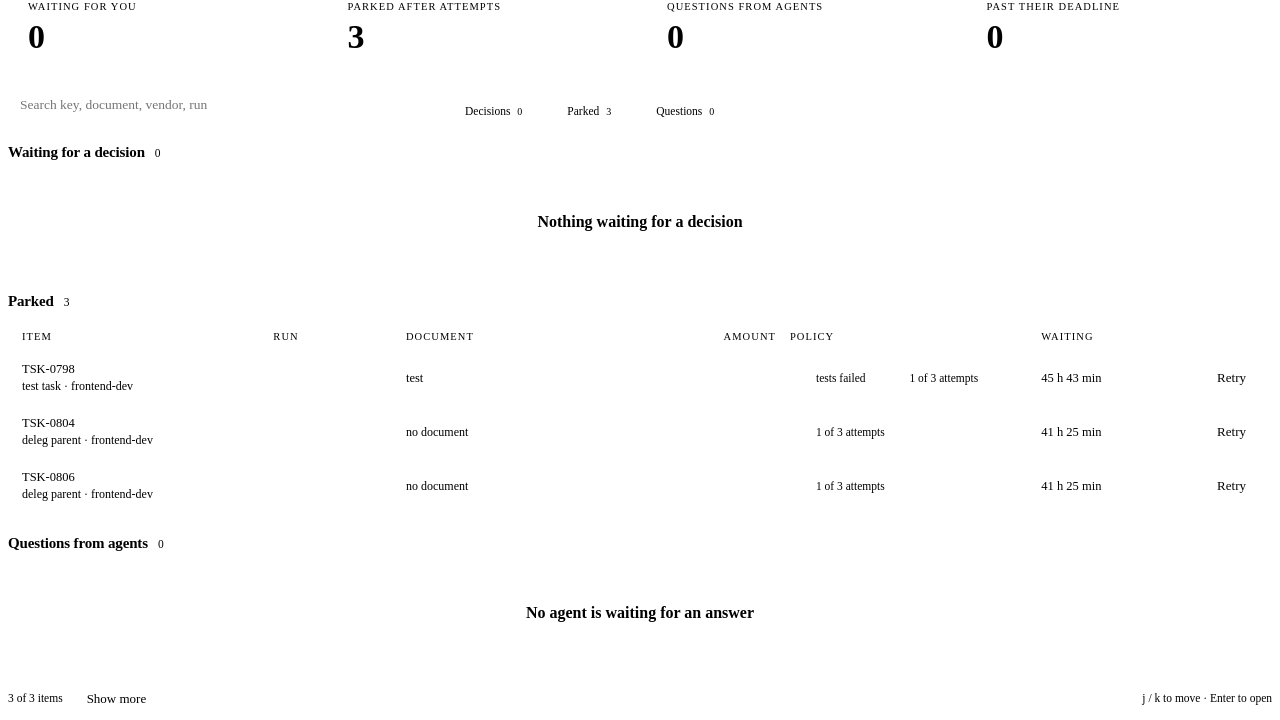
Test case: Inbox panel: the whole list › reports a failed later page instead of losing it
The width and height of the screenshot is (1280, 720).
(page scrolled)
Click the button "Show more". click: coordinates (116, 698)
box: [75,684,158,712]
(page scrolled)
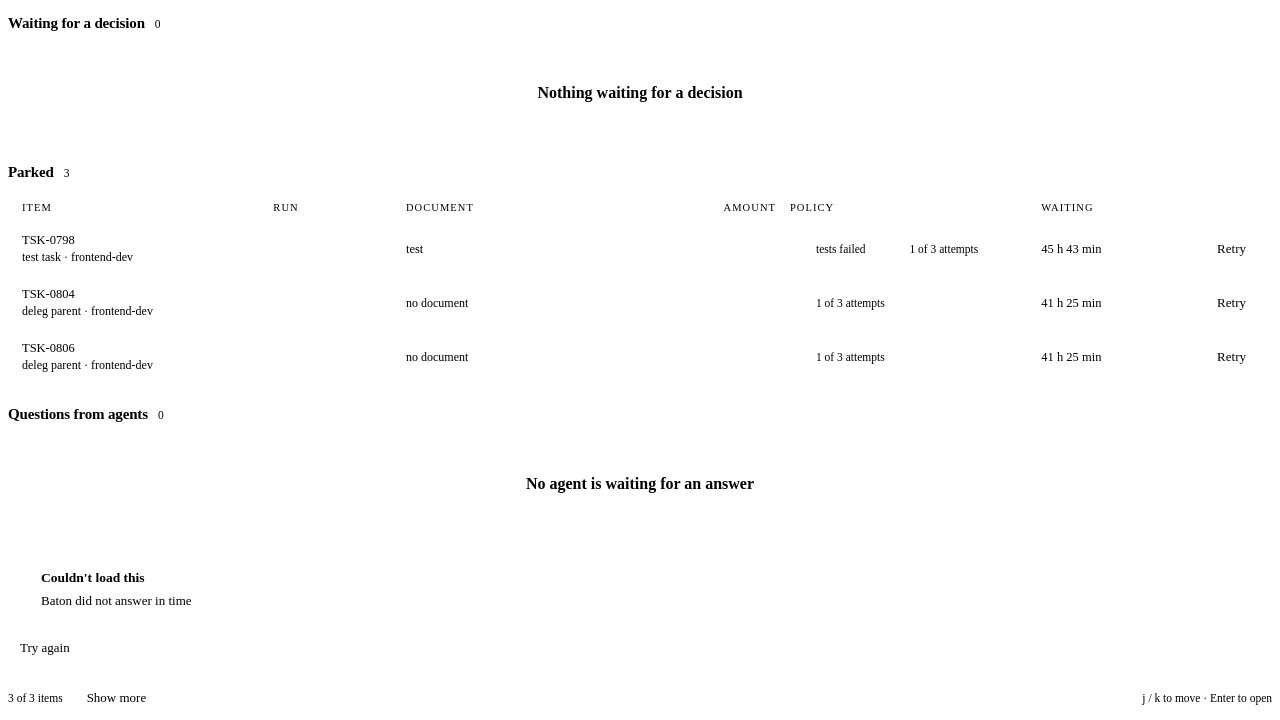
Check: the text "Baton did not answer in time" is shown, box [41,591,192,611]
